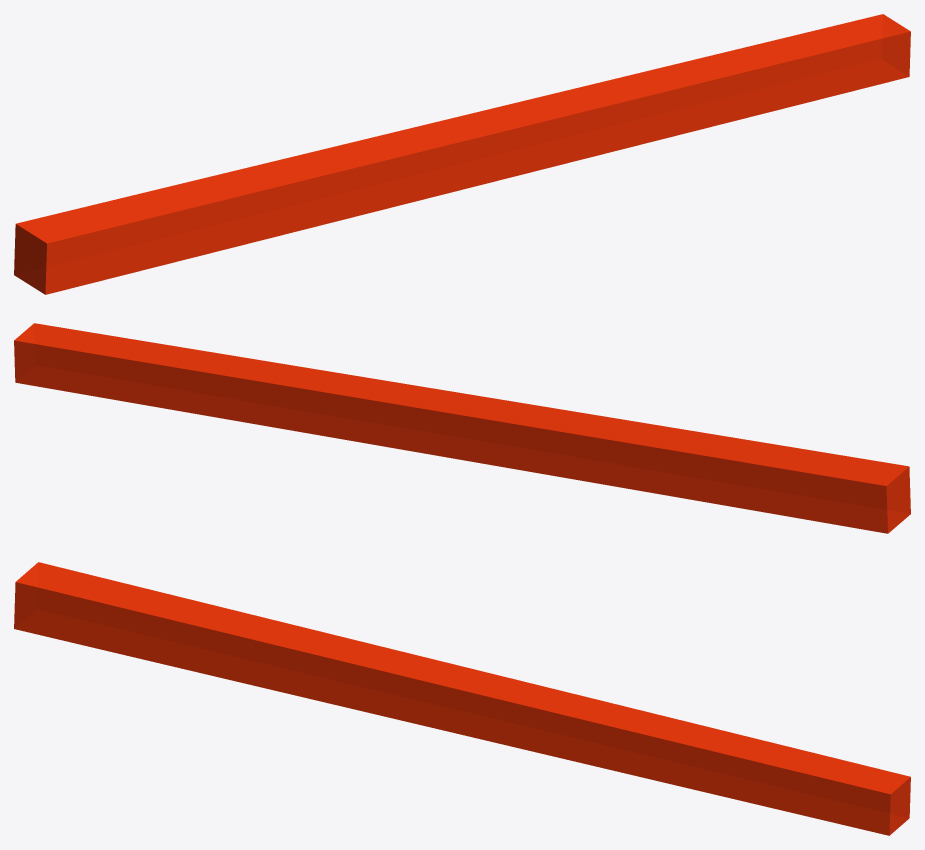
The model's file is Event_420604493_EErechit_21.fbx.
3 views of the same model, one above another, from view 1: azimuth 30°, elevation 25°; view 2: azimuth 150°, elevation 25°; view 3: azimuth 330°, elevation 25° (orthographic). The views are drawn at different scales.
Parts seen in each view (by area): view 1: Model; view 2: Model; view 3: Model.
Part boxes in pixels (left/top/right/bottom): Model: left=14, top=14, right=910, bottom=294; Model: left=14, top=323, right=910, bottom=533; Model: left=14, top=562, right=910, bottom=835.
Bounding box in the file's own units: 1.53 × 0.1327 × 0.1875.
